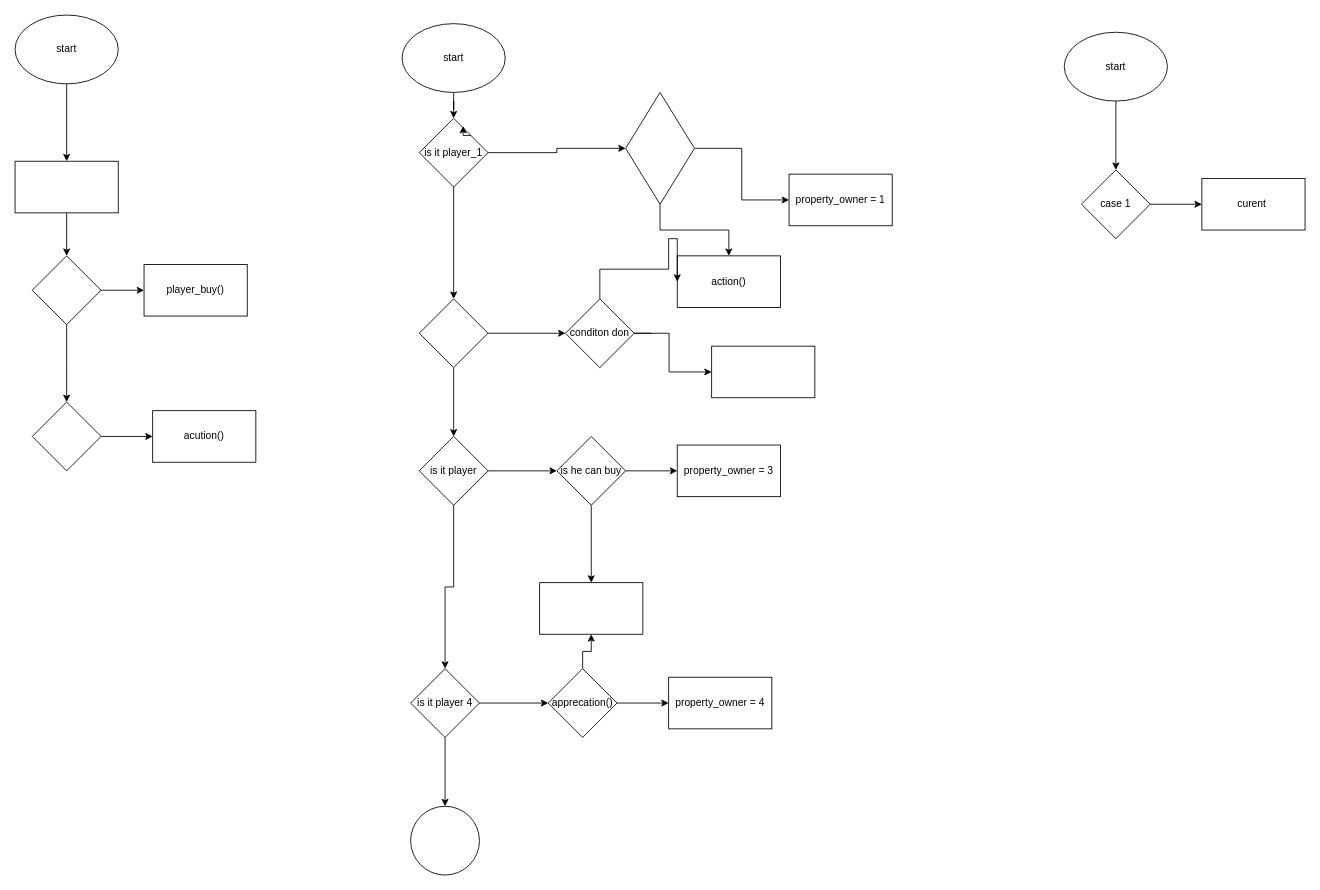
This 1320x890 diagram has some shape labels left out. Each missing label, with the centre of its shape:
action: point 591,608
available_price>= poperty_price: point 659,148
int current_money = player[i].money *player = [buy, action]: point 66,186
is it buy sithuation: point 66,290
is it player_2: point 453,333
is player in auction situation: point 66,436
property_owner = 2: point 763,371
stop: point 444,840
